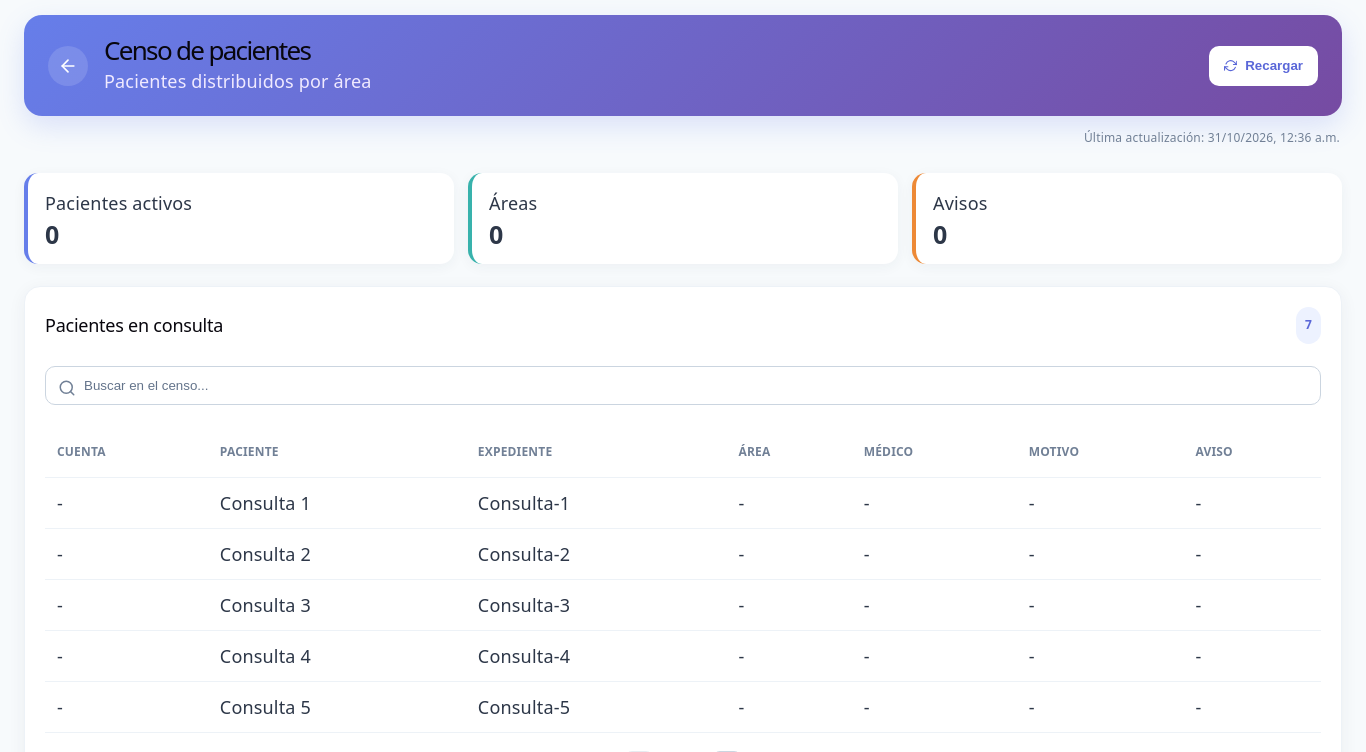
Test: keeps census searches separate by area and resets the filtered area page
The image size is (1366, 752).
Check: the text "Consulta 1" is shown, box top-left (208, 477), bottom-right (466, 528)
Type "Consulta 7" into the field with placeholder "Buscar en el censo..." at (683, 385), box top-left (45, 366), bottom-right (1321, 405)
(page scrolled)
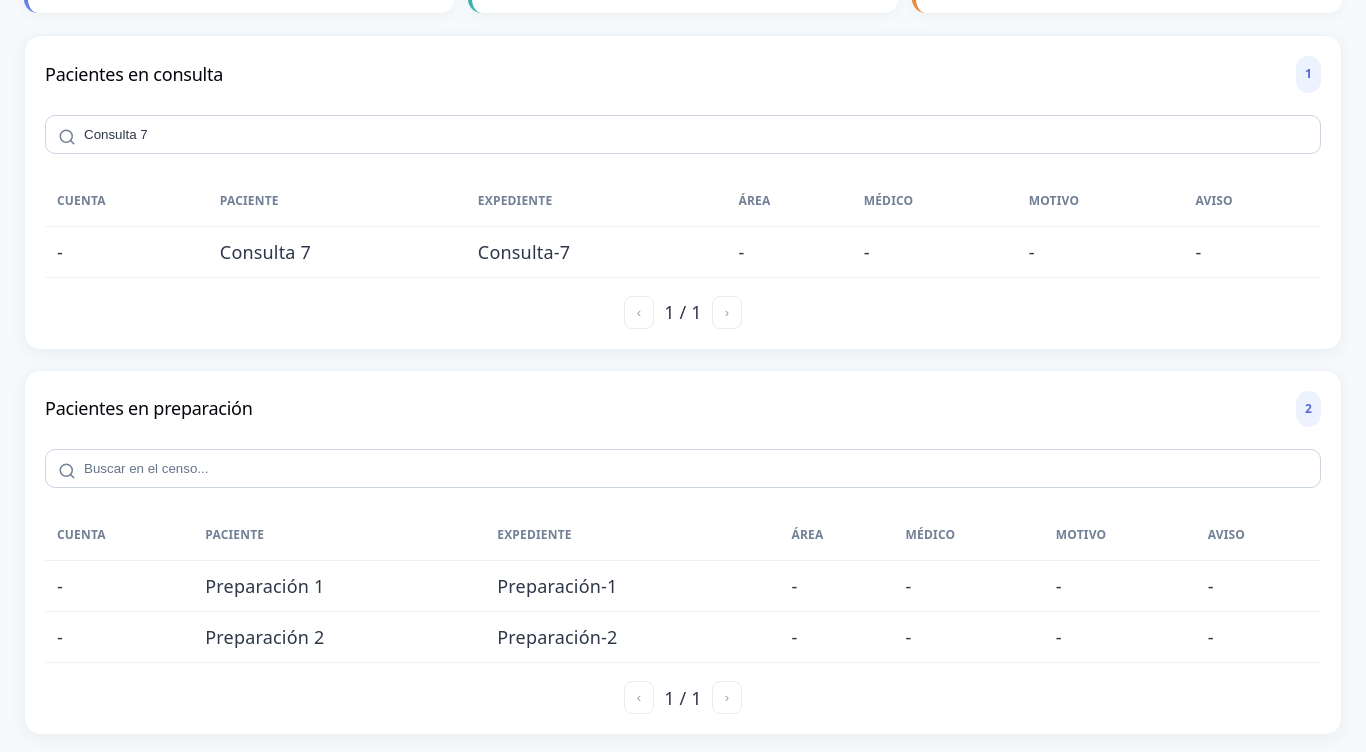
Check: the text "Preparación 1" is shown, box top-left (193, 560), bottom-right (485, 612)
Check: the text "Consulta 7" is shown, box top-left (208, 226), bottom-right (466, 277)
